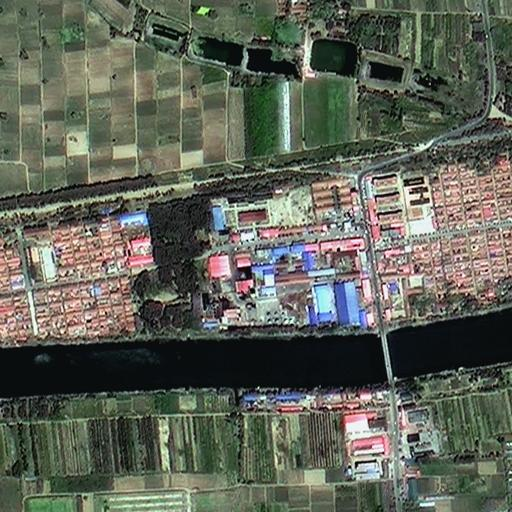school: (209, 187, 313, 233)
